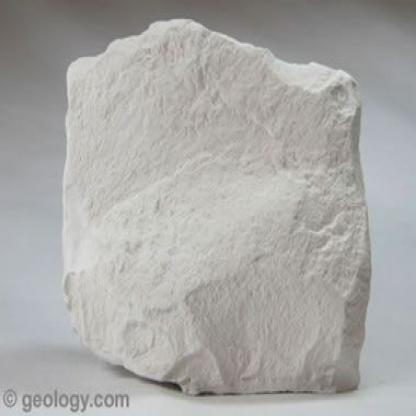Sedimentary_Limestone: (57, 12, 385, 401)
